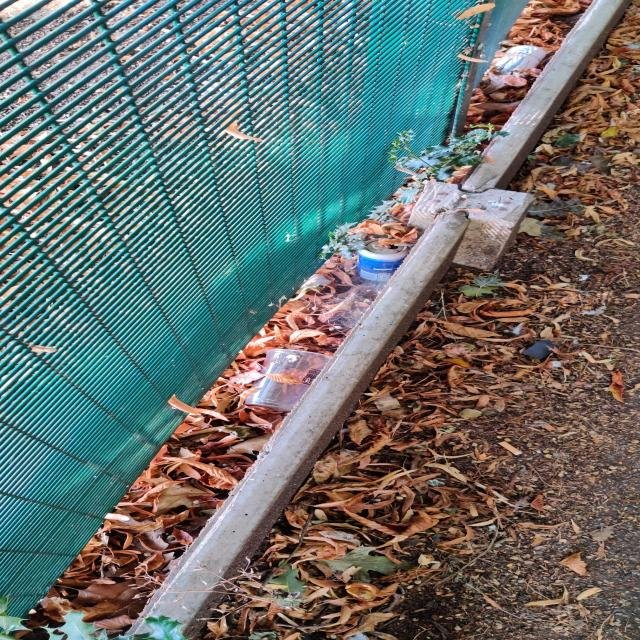litter: (243, 350, 331, 411), (357, 238, 410, 283), (492, 45, 547, 76), (521, 340, 557, 359), (499, 442, 524, 455), (535, 421, 555, 431)
